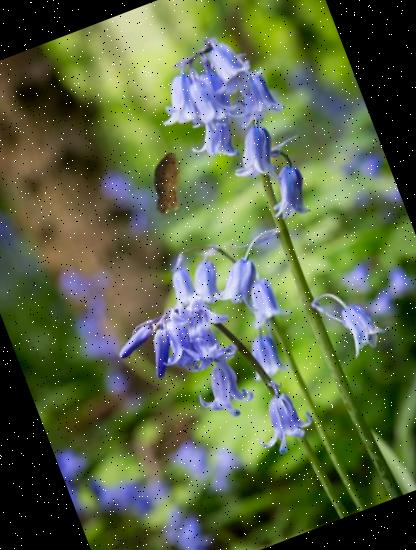Ginger: (125, 142, 209, 226)
